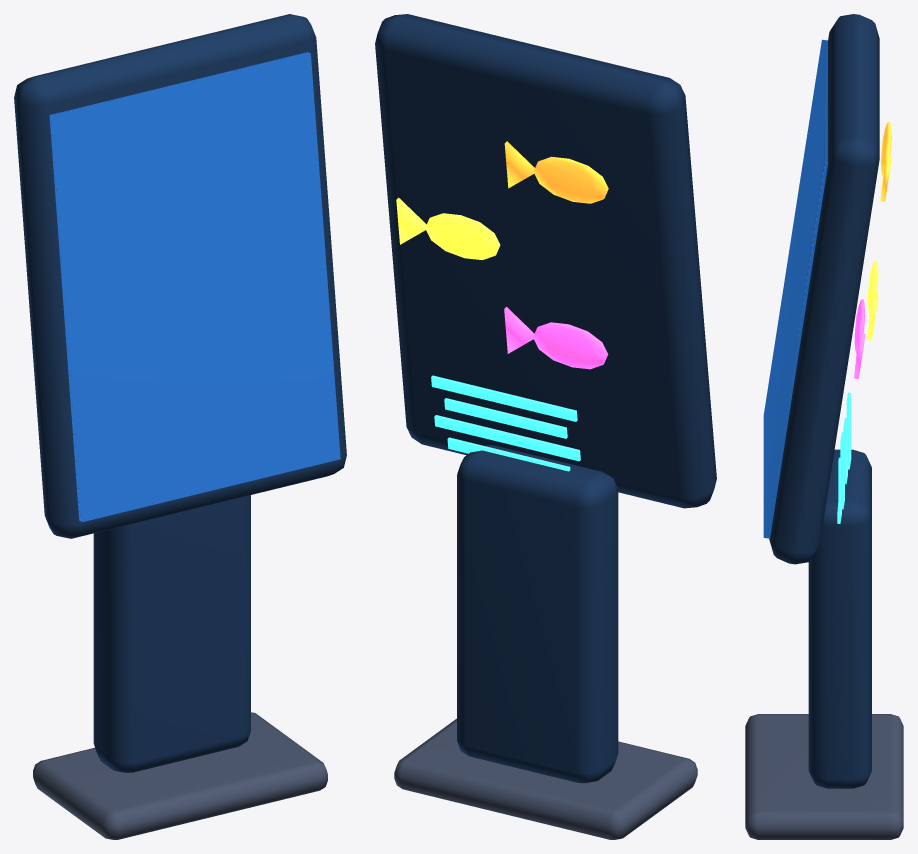
The model's file is aqua_info_kiosk.glb.
3 views of the same model, side by side, from view 1: azimuth 30°, elevation 25°; view 2: azimuth 150°, elevation 25°; view 3: azimuth 270°, elevation 25° (orthographic). The views are drawn at different scales.
Visible parts, largest first — view 1: InfoKiosk; view 2: InfoKiosk; view 3: InfoKiosk.
Part boxes in pixels (x1=…): InfoKiosk: x1=14, y1=14, x2=346, y2=839; InfoKiosk: x1=375, y1=14, x2=716, y2=839; InfoKiosk: x1=745, y1=14, x2=903, y2=839.
Size of the model in its own units: 1.05 by 2.49 by 0.5.
